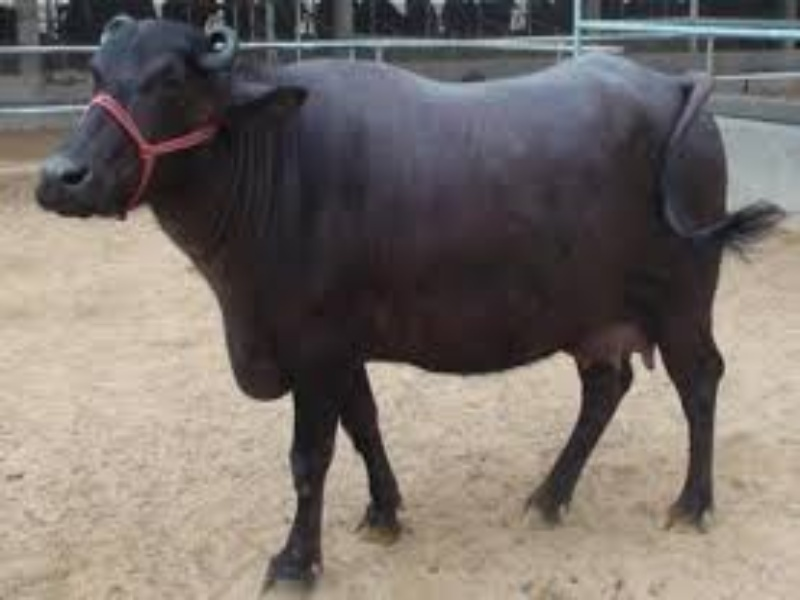buffalo: (43, 5, 792, 570)
